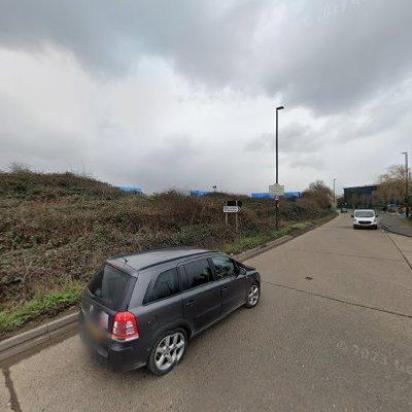moving-car: (75, 246, 261, 380)
moving-light-truck: (350, 209, 380, 231)
